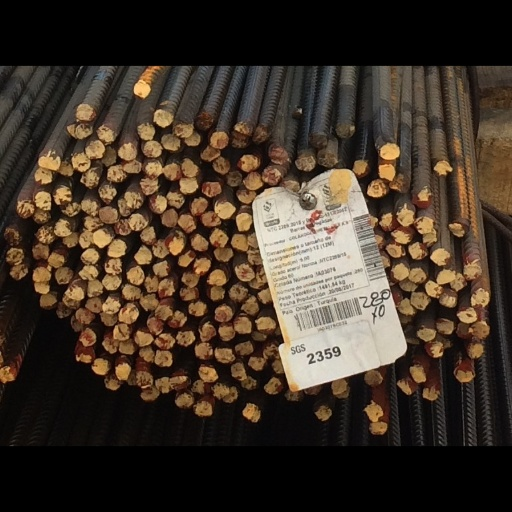dipstick: (237, 118, 260, 142), (119, 318, 138, 346), (208, 218, 228, 244), (410, 302, 430, 328), (390, 145, 409, 172), (395, 191, 414, 217), (331, 421, 350, 447), (37, 117, 59, 139), (214, 378, 235, 401), (235, 266, 255, 290), (366, 152, 386, 176), (430, 245, 450, 269), (85, 100, 104, 125), (181, 125, 200, 150), (3, 218, 22, 243), (256, 336, 275, 361), (243, 142, 262, 167), (408, 236, 427, 261), (364, 453, 383, 478), (98, 159, 116, 185), (126, 269, 144, 295), (242, 453, 260, 479), (198, 344, 216, 370), (412, 166, 430, 192), (154, 360, 175, 382), (391, 217, 413, 238), (317, 115, 337, 138), (379, 103, 399, 126), (35, 215, 54, 239), (107, 234, 126, 258), (269, 109, 288, 133), (195, 62, 213, 87), (53, 160, 71, 185), (15, 179, 33, 204), (214, 319, 232, 344), (262, 136, 280, 161), (379, 197, 397, 222), (438, 300, 456, 325), (470, 299, 488, 324), (93, 219, 110, 245), (134, 242, 151, 268), (235, 197, 252, 223), (352, 125, 369, 151), (409, 401, 426, 427), (98, 189, 118, 211), (424, 371, 444, 393), (76, 52, 95, 75), (143, 100, 162, 123), (215, 181, 234, 204), (470, 345, 489, 368), (154, 58, 172, 82), (144, 127, 162, 151), (148, 174, 166, 198), (80, 141, 98, 165), (53, 205, 71, 229), (264, 419, 282, 443), (463, 264, 481, 288), (390, 265, 408, 289), (178, 200, 195, 225), (241, 310, 258, 335), (193, 451, 213, 472), (295, 121, 315, 142), (447, 211, 468, 231), (456, 324, 476, 345), (75, 376, 94, 398), (91, 394, 110, 416), (336, 77, 355, 99), (386, 236, 405, 258), (35, 168, 51, 194), (158, 285, 174, 311), (98, 80, 116, 103), (118, 103, 136, 126), (140, 150, 158, 173), (124, 168, 142, 191), (39, 306, 57, 329), (167, 328, 185, 351), (229, 294, 247, 317), (229, 86, 247, 109), (434, 125, 452, 148), (363, 409, 381, 432), (133, 18, 150, 42), (137, 75, 154, 99), (164, 130, 181, 154), (231, 226, 248, 250), (79, 352, 96, 376), (72, 117, 88, 142), (201, 156, 221, 176), (78, 268, 98, 288), (65, 295, 85, 315), (455, 404, 475, 424), (161, 92, 180, 113), (60, 184, 81, 203), (79, 246, 98, 267), (32, 270, 51, 291), (207, 274, 226, 295), (198, 403, 217, 424), (176, 357, 195, 378), (107, 135, 125, 157), (179, 151, 197, 173), (102, 280, 120, 302), (55, 270, 73, 292), (5, 246, 23, 268), (181, 276, 199, 298), (140, 306, 158, 328), (140, 430, 158, 452), (174, 439, 192, 461), (86, 288, 103, 311), (102, 311, 119, 334), (152, 235, 169, 258), (190, 226, 207, 249), (195, 371, 212, 394), (378, 132, 395, 155), (425, 288, 442, 311), (436, 338, 453, 361), (140, 217, 156, 241), (102, 362, 118, 386), (128, 200, 147, 220), (83, 202, 103, 221), (61, 307, 80, 327), (75, 327, 95, 346), (188, 317, 207, 337), (236, 166, 256, 185), (102, 107, 116, 134), (200, 197, 221, 215), (81, 180, 99, 201), (31, 239, 49, 260), (191, 176, 206, 201), (34, 137, 51, 159), (193, 259, 210, 281), (154, 382, 171, 404), (415, 203, 432, 225), (152, 262, 168, 285), (253, 81, 269, 104), (450, 279, 466, 302), (422, 218, 436, 244), (200, 108, 219, 127), (368, 478, 387, 497), (175, 76, 193, 96), (104, 259, 122, 279), (9, 267, 27, 287), (122, 294, 140, 314), (213, 244, 233, 262), (115, 399, 130, 423), (211, 428, 229, 448), (231, 400, 246, 424), (235, 74, 253, 94), (308, 91, 326, 111), (422, 431, 440, 451), (210, 89, 227, 110), (166, 169, 183, 190), (154, 322, 171, 343), (314, 456, 331, 477), (113, 347, 129, 369), (136, 410, 152, 432), (235, 338, 251, 360), (213, 124, 229, 146), (162, 193, 177, 216), (247, 244, 262, 267), (135, 358, 153, 377), (235, 370, 253, 389), (436, 274, 454, 293), (85, 312, 102, 332), (104, 416, 121, 436), (284, 433, 304, 450), (169, 230, 183, 254), (178, 248, 194, 269), (148, 337, 162, 361), (218, 348, 234, 369), (79, 223, 94, 245), (396, 421, 411, 443), (455, 346, 470, 368), (75, 78, 92, 97), (47, 251, 64, 270), (248, 391, 265, 410), (409, 272, 425, 292), (466, 373, 482, 393), (114, 207, 129, 228), (155, 419, 170, 440), (222, 432, 237, 453), (139, 378, 154, 399), (144, 283, 158, 305), (33, 195, 51, 212), (170, 417, 187, 435), (417, 352, 435, 369), (179, 299, 199, 314), (257, 299, 272, 319), (59, 128, 73, 149), (227, 142, 241, 163), (123, 128, 140, 145), (63, 225, 78, 244), (119, 369, 134, 388), (57, 318, 71, 338), (190, 420, 204, 440), (118, 180, 131, 201), (263, 375, 278, 393), (211, 296, 225, 315), (184, 91, 200, 107), (100, 335, 117, 350), (241, 418, 256, 435), (71, 335, 82, 358), (34, 290, 49, 306), (399, 289, 416, 303)
